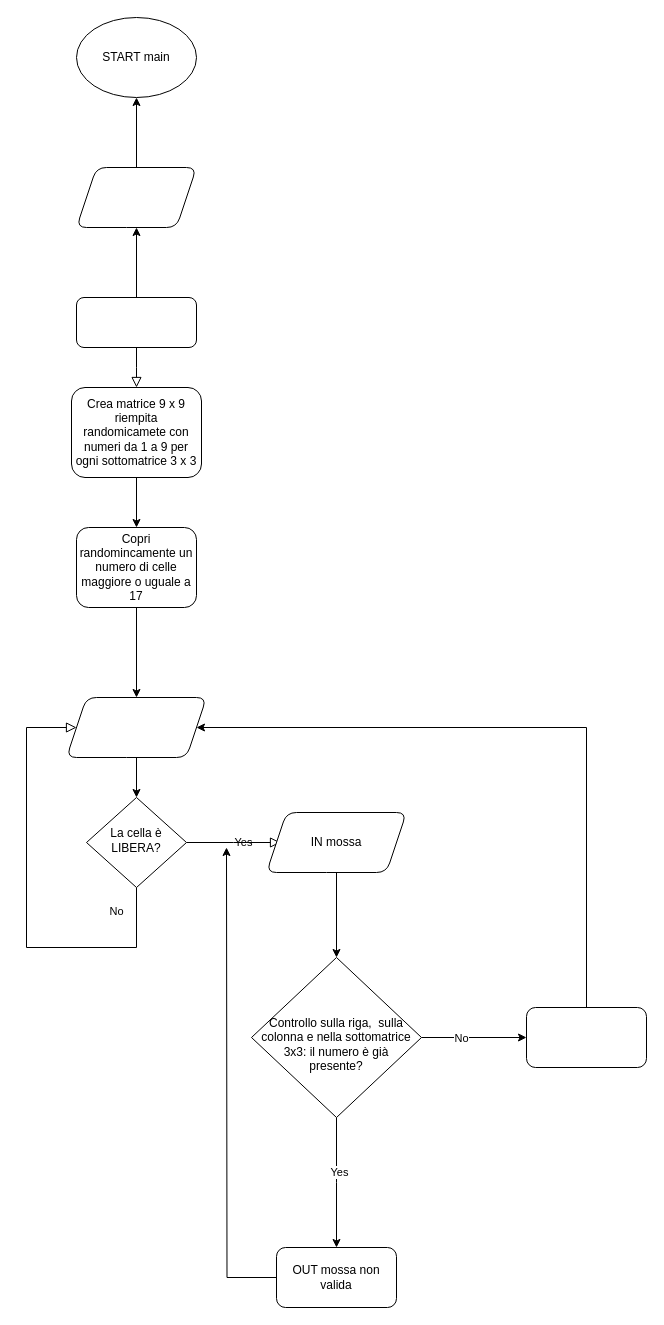
The diagram is 664 pixels wide and 1325 high, and some of its shapes have lost their labels. The shapes that lost their labels are listed below. From the top down, each one's box as (x1, y1, x2, y2) in pixels, then its label:
(76, 166, 196, 228): IN nome utente
(76, 296, 196, 348): Crea matrice 9 x 9 riempita randomicamete
(66, 696, 206, 758): IN posizione cella
(526, 1006, 646, 1068): Inserisci il numero nella cella nella posizione desiderata
